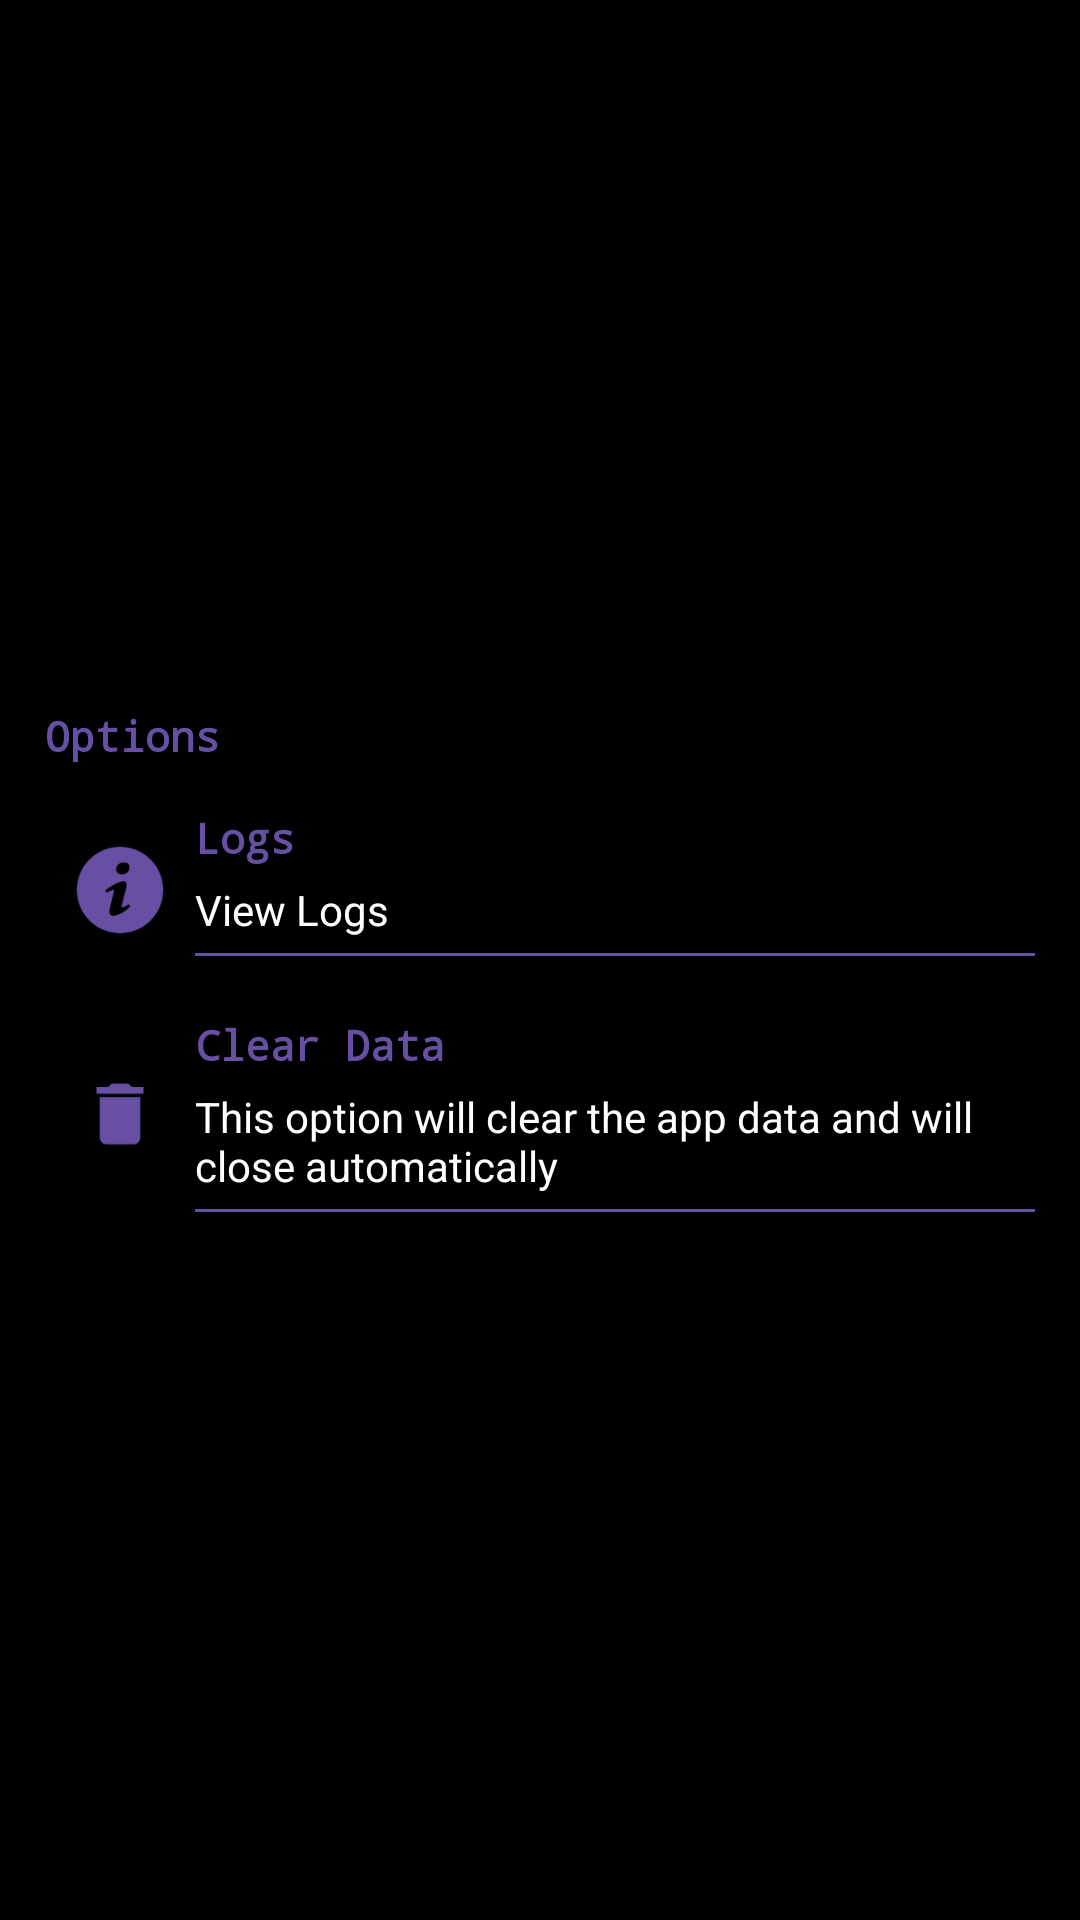

Icons on this 1080px x 1920px Android screen, each with the point to tap as (x=x, y=y):
delete: (x=120, y=1114)
info: (x=120, y=890)
